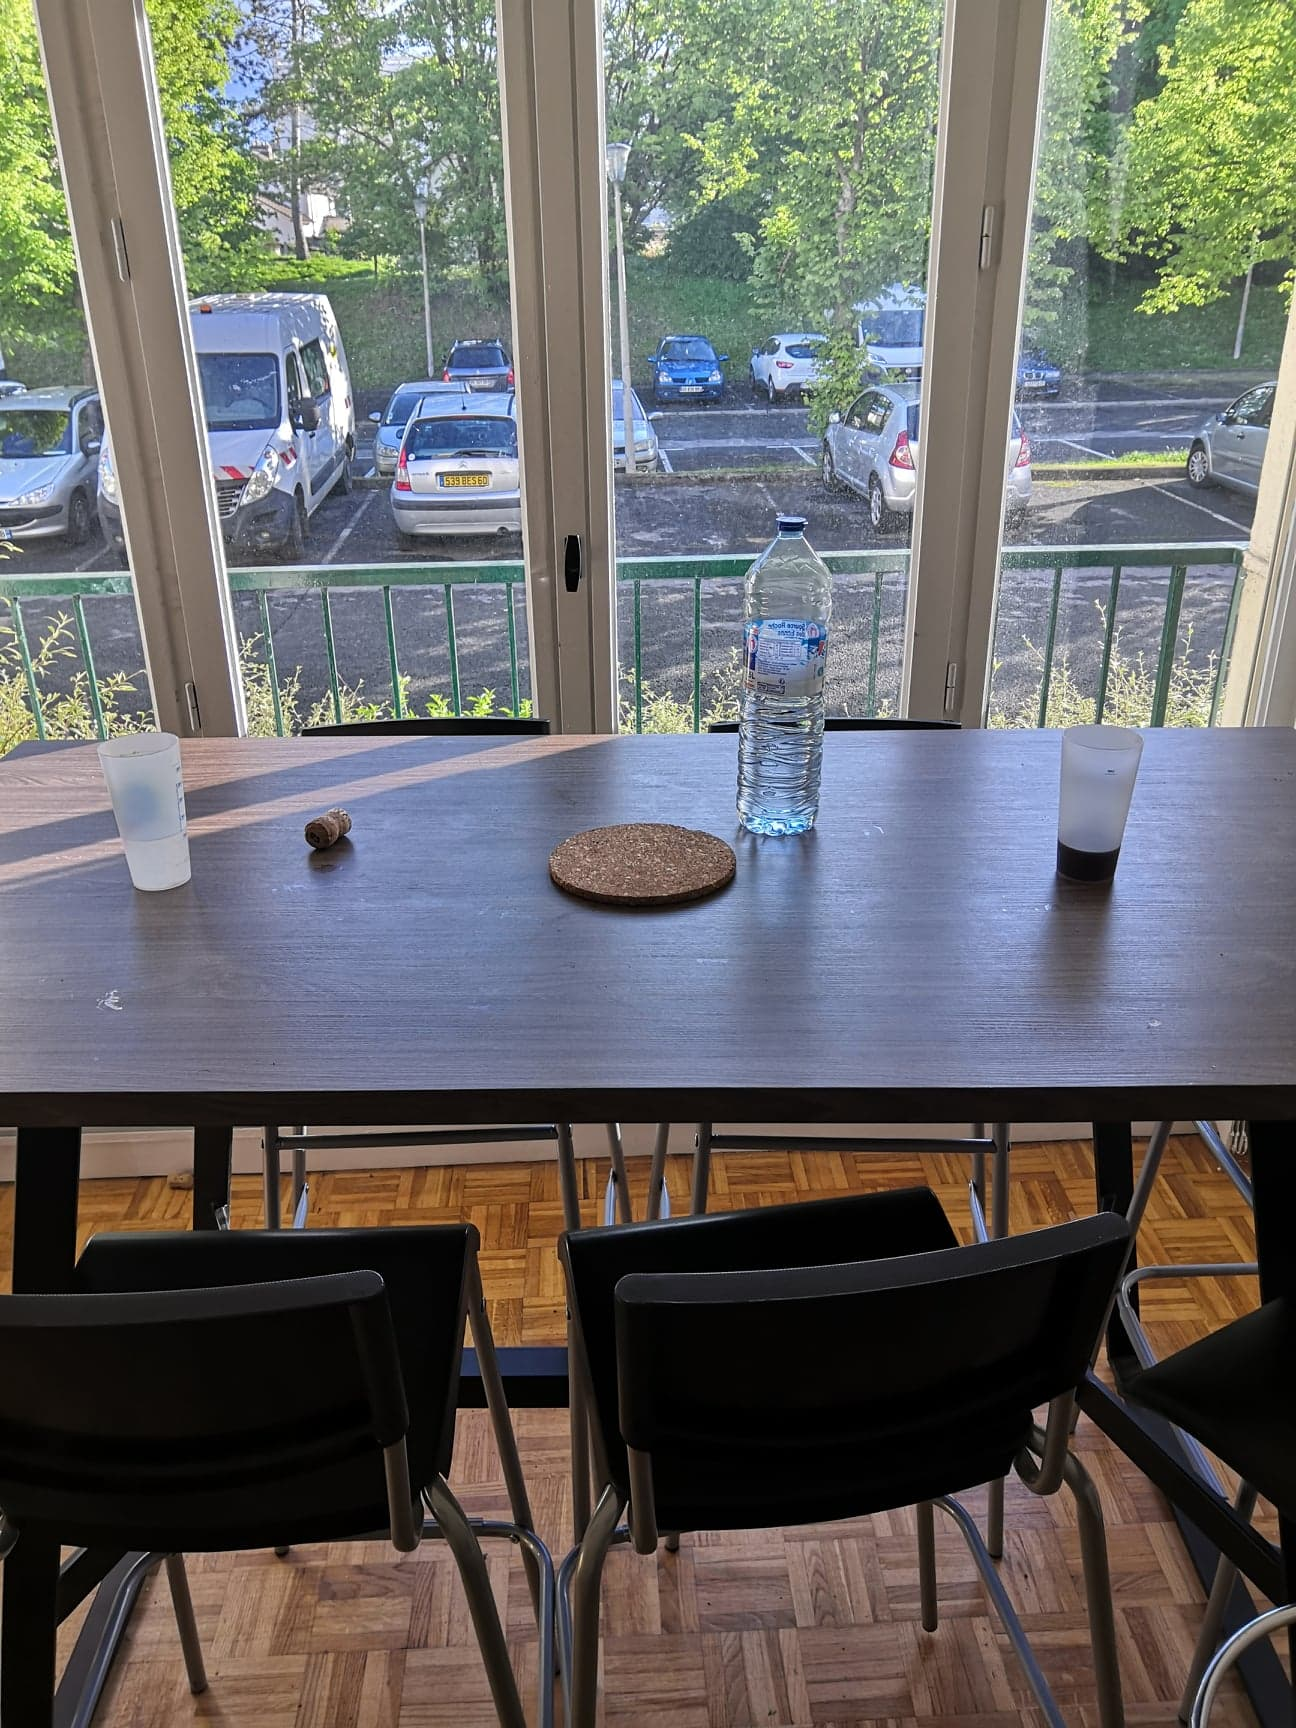ecocup: (97, 729, 195, 893), (1052, 720, 1144, 890)
